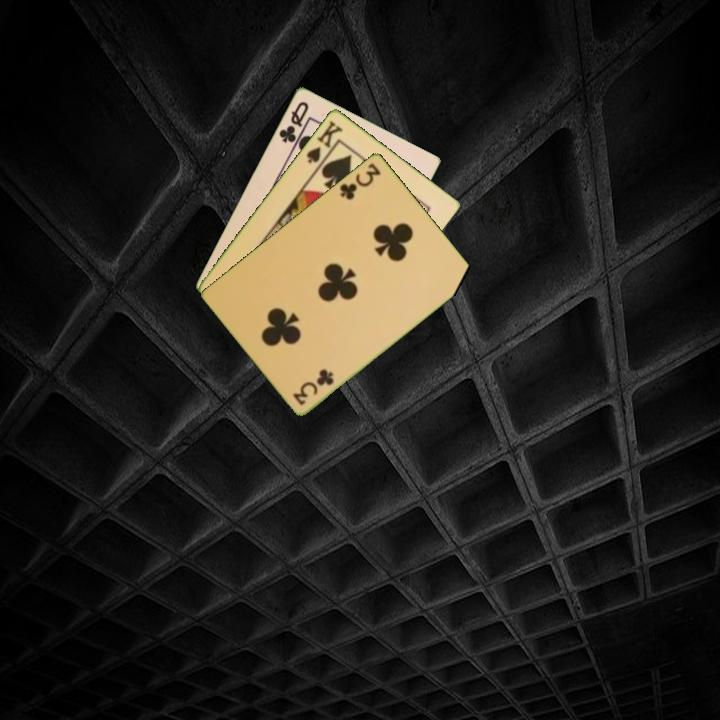3c: (336, 159, 384, 203), (290, 366, 337, 408)
Ks: (303, 116, 346, 166)
Qc: (275, 97, 312, 145)
